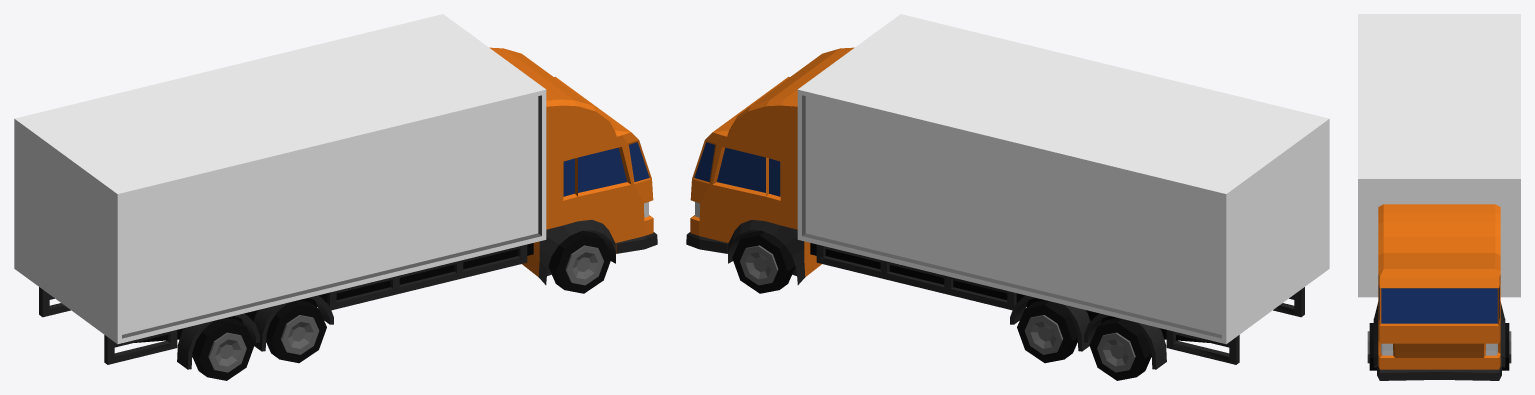
File: truck.FBX
3 views of the same model, side by side, from view 1: azimuth 30°, elevation 25°; view 2: azimuth 150°, elevation 25°; view 3: azimuth 270°, elevation 25° (orthographic). The views are drawn at different scales.
Visible parts, largest first — view 1: Tube002, koła; view 2: Tube002, koła; view 3: Tube002, koła.
Boxes of the visible parts, x1,y1,x2,y2 form: Tube002: [14, 14, 657, 369]; koła: [192, 230, 611, 380]; Tube002: [686, 14, 1329, 369]; koła: [732, 230, 1151, 380]; Tube002: [1358, 14, 1520, 380]; koła: [1367, 323, 1511, 370].
Size of the model in its own units: 35.49 by 13.49 by 11.45.
